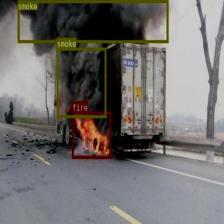fire: (72, 111, 110, 158)
smoke: (18, 0, 168, 43), (56, 47, 106, 117)
